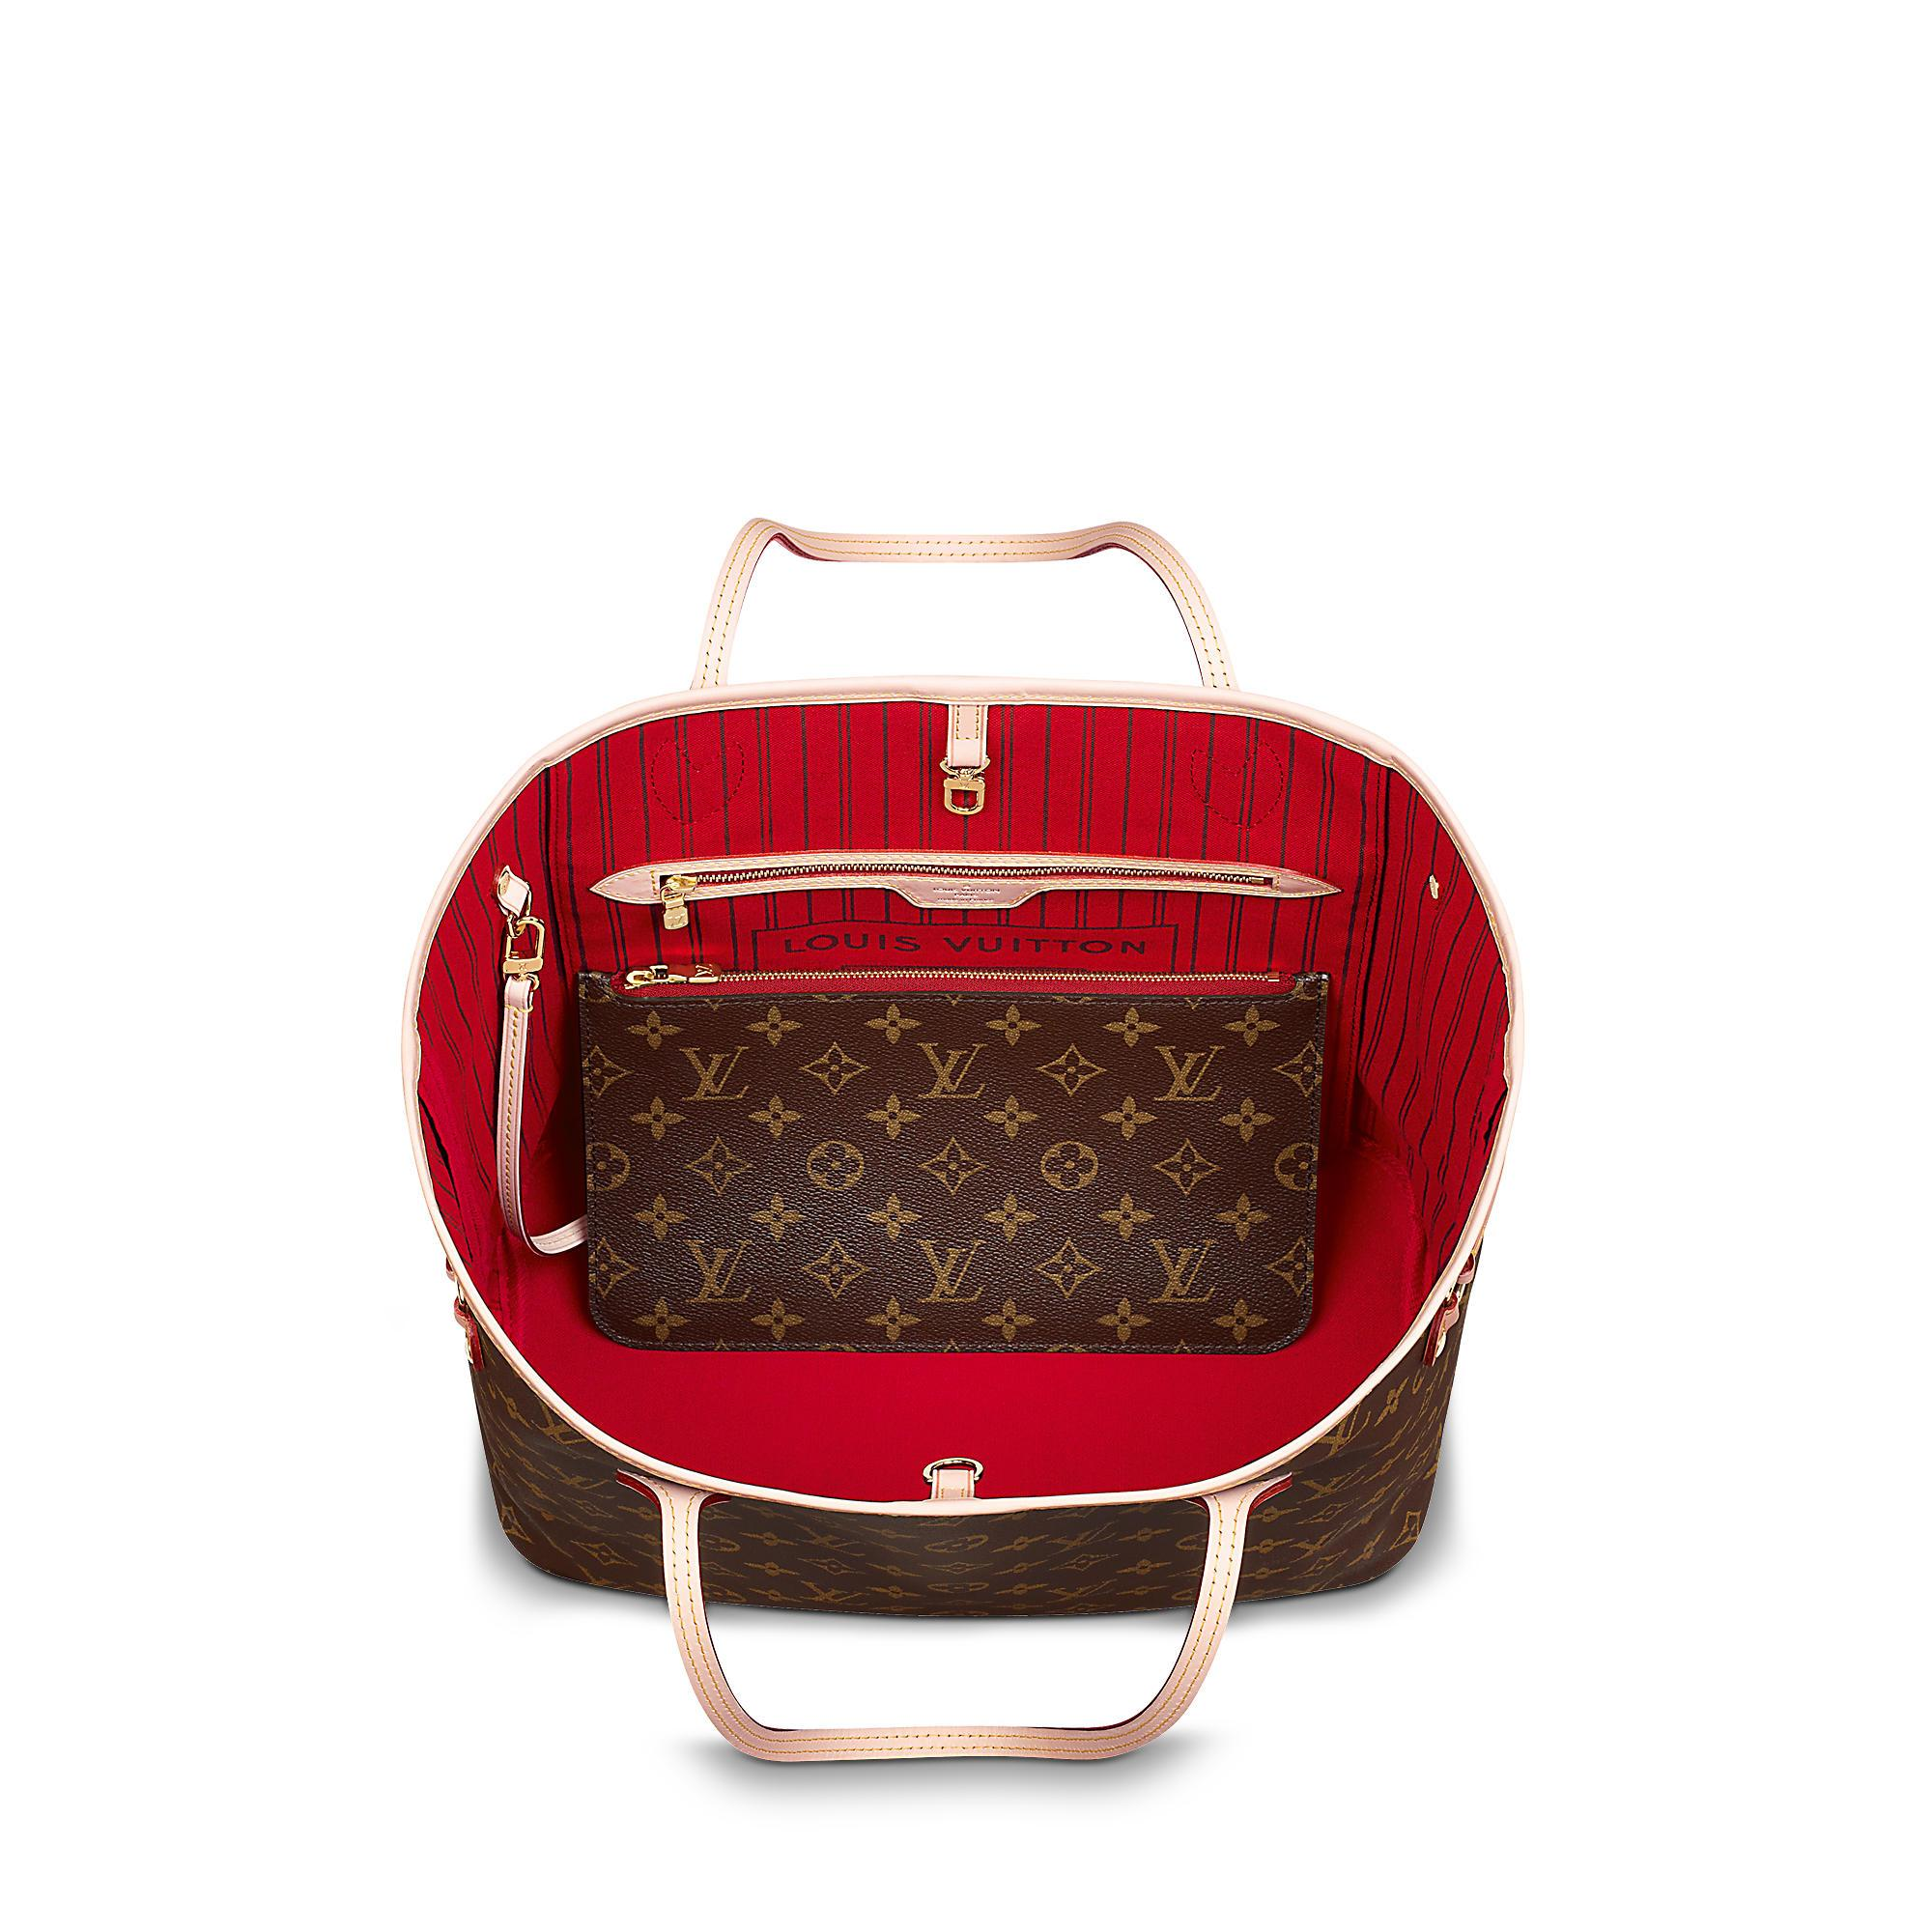LOUIS-VUITTON: (1146, 1233, 1221, 1307), (913, 1237, 989, 1307), (681, 1235, 754, 1306), (1148, 1042, 1226, 1106), (913, 1039, 985, 1104), (678, 1042, 752, 1104), (1284, 1513, 1361, 1568), (529, 1399, 587, 1461), (541, 1458, 614, 1504), (1318, 1401, 1373, 1461), (796, 1518, 865, 1560), (1295, 1465, 1366, 1506), (1047, 1518, 1116, 1557), (798, 1578, 867, 1610), (1046, 1578, 1116, 1606)
